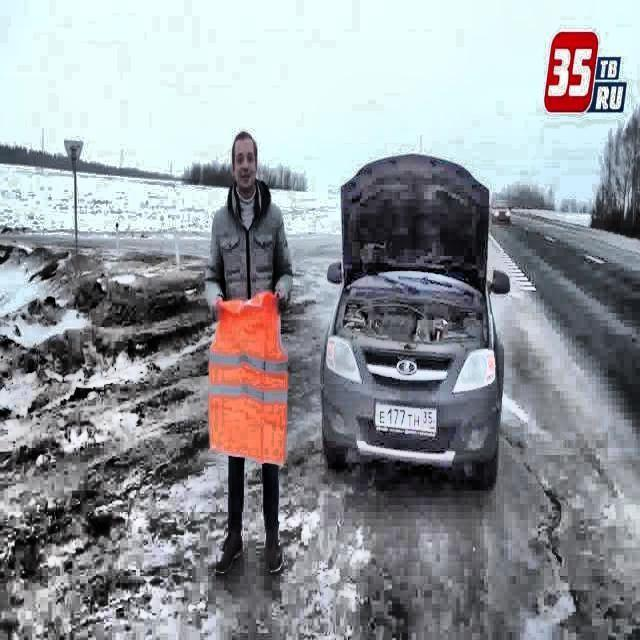safety_jacket: (208, 287, 290, 472)
